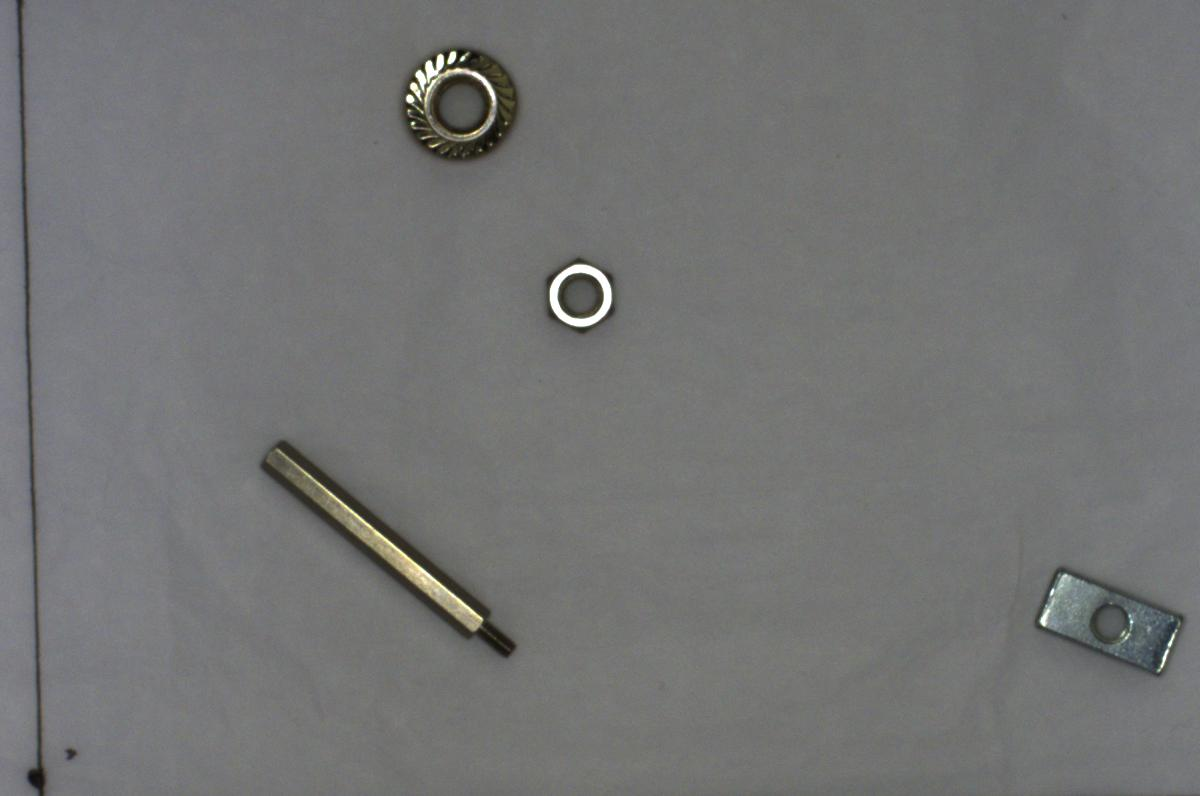Flange nut: (394, 35, 526, 172)
Hexagon nut: (539, 252, 624, 345)
Hexagonal steel column: (247, 423, 525, 669)
Rectangular nut: (1028, 553, 1188, 682)
